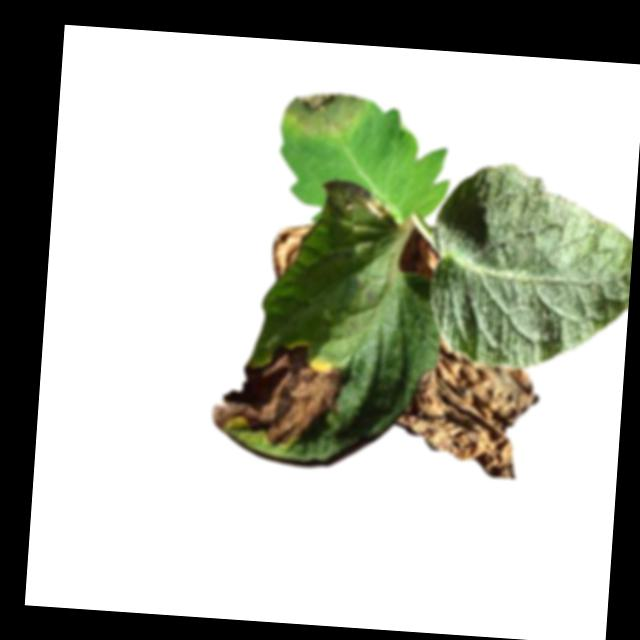Late_blight: (390, 333, 543, 481), (208, 334, 347, 452), (283, 84, 368, 142), (320, 178, 391, 225), (269, 221, 311, 282), (398, 230, 443, 282)
healthy: (425, 159, 637, 376)
